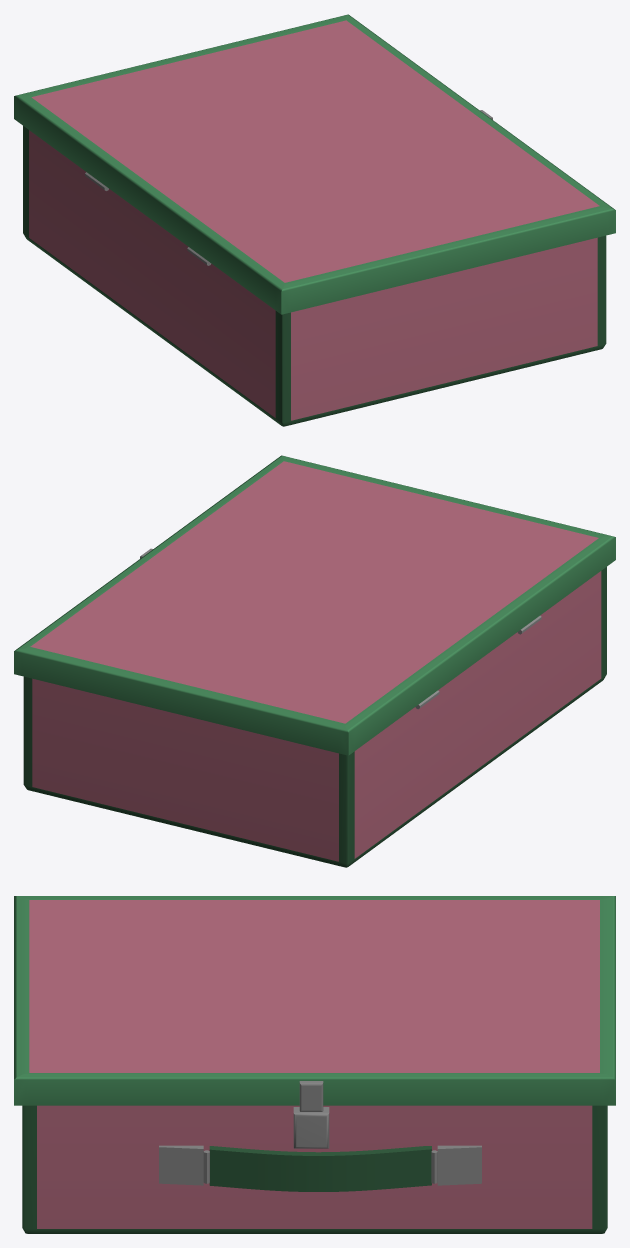
The model's file is LunchBoxModel.fbx.
3 views of the same model, one above another, from view 1: azimuth 30°, elevation 25°; view 2: azimuth 150°, elevation 25°; view 3: azimuth 270°, elevation 25° (orthographic). The views are drawn at different scales.
Visible parts, largest first — view 1: LunchBox3; view 2: LunchBox3; view 3: LunchBox3.
Boxes of the visible parts, x1,y1,x2,y2 form: LunchBox3: [14, 14, 615, 426]; LunchBox3: [14, 455, 615, 867]; LunchBox3: [14, 896, 615, 1233].
Size of the model in its own units: 0.1991 by 0.0787 by 0.265.
